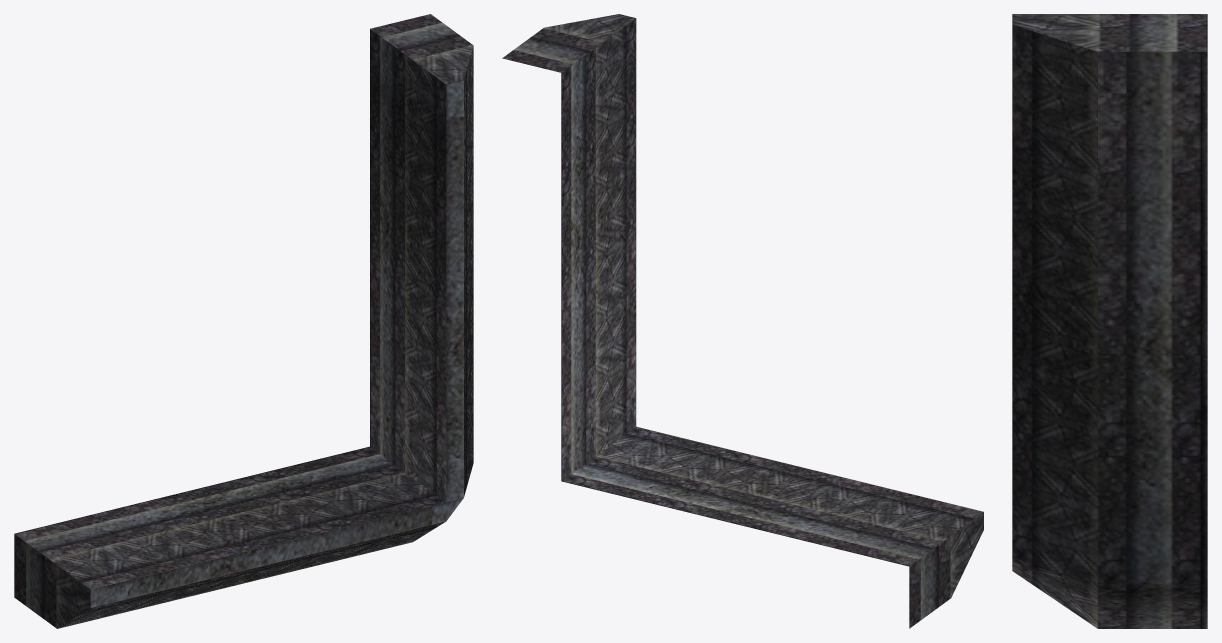
3 renders of one model, left to right at view 1: azimuth 30°, elevation 25°; view 2: azimuth 150°, elevation 25°; view 3: azimuth 270°, elevation 25°, orthographic. The views are drawn at different scales.
Parts seen in each view (by area): view 1: model_Object41; view 2: model_Object41; view 3: model_Object41.
Part boxes in pixels (bbox=[...]): model_Object41: bbox=[14, 14, 473, 628]; model_Object41: bbox=[502, 14, 983, 628]; model_Object41: bbox=[1012, 14, 1207, 628].
Size of the model in its own units: 2.71 by 3 by 0.8625.
Materials: 1 (1 with a texture image).
